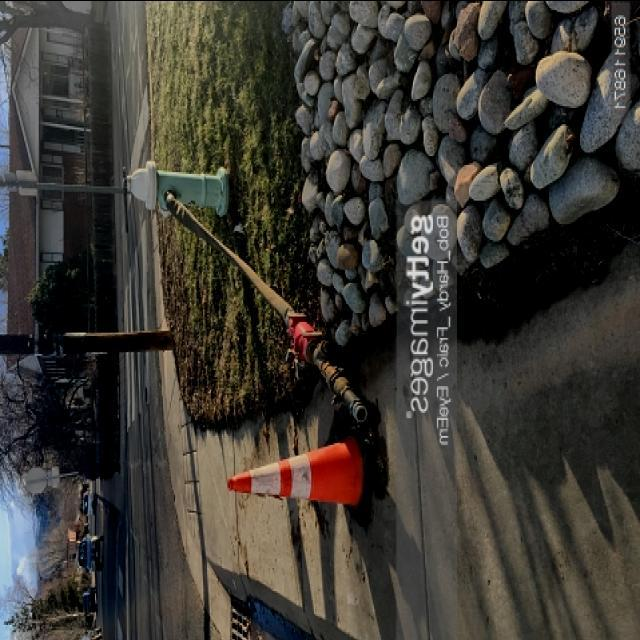traffic cone: (226, 436, 364, 506)
